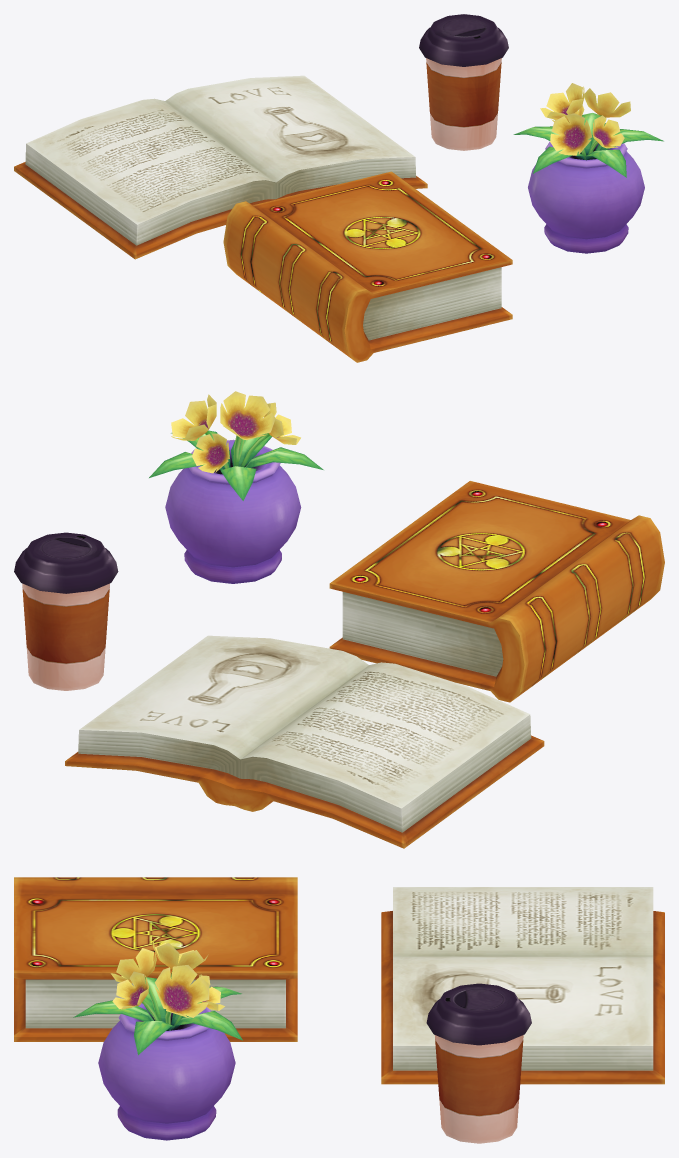
The model's file is testModel.glb.
The picture shows the model from 3 angles, top to bottom: view 1: azimuth 30°, elevation 25°; view 2: azimuth 150°, elevation 25°; view 3: azimuth 270°, elevation 25°; orthographic projection. The views are drawn at different scales.
Visible parts, largest first — view 1: magic_book_opened, magic_book_closed, flower, coffee_cup; view 2: magic_book_opened, magic_book_closed, flower, coffee_cup; view 3: magic_book_opened, magic_book_closed, flower, coffee_cup.
Boxes of the visible parts, x1,y1,x2,y2 form: magic_book_opened: [14, 75, 427, 259]; magic_book_closed: [223, 171, 512, 362]; flower: [513, 83, 663, 253]; coffee_cup: [419, 14, 508, 150]; magic_book_opened: [65, 635, 544, 848]; magic_book_closed: [329, 481, 664, 702]; flower: [149, 391, 323, 583]; coffee_cup: [14, 532, 118, 690]; magic_book_opened: [381, 887, 664, 1084]; magic_book_closed: [14, 877, 297, 1041]; flower: [73, 941, 242, 1140]; coffee_cup: [426, 983, 531, 1143].
Bounding box in the file's own units: 12.73 × 4.48 × 14.37.
Materials: 3 (3 with a texture image).
